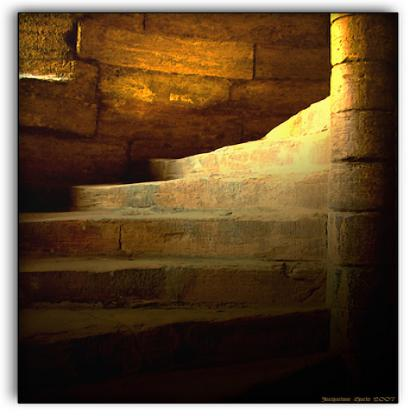stairs: (38, 207, 327, 399)
